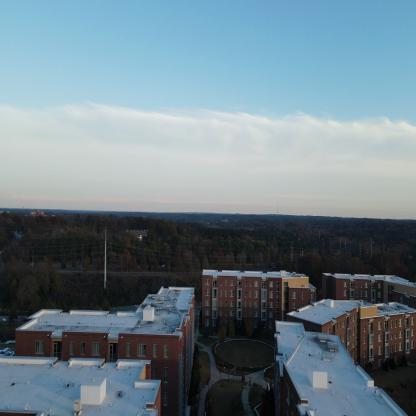Wolf Ridge: (9, 264, 198, 392), (273, 314, 415, 416), (200, 263, 315, 344), (322, 269, 416, 330)
